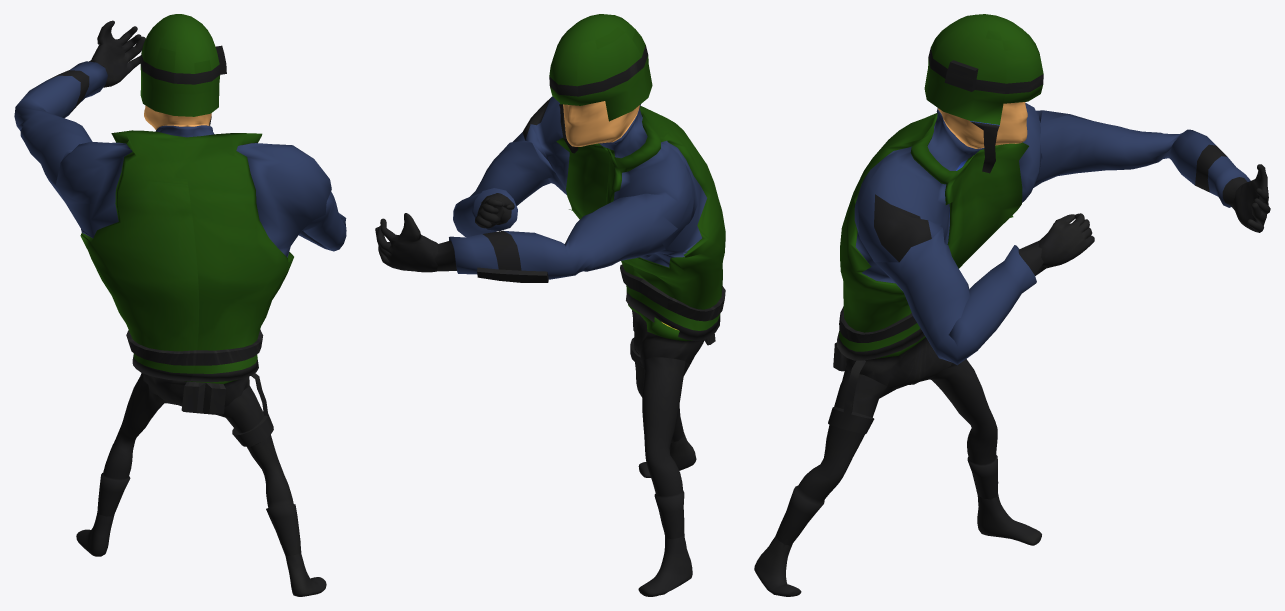
The model's file is armor_vest.obj.
3 renders of one model, left to right at view 1: azimuth 30°, elevation 25°; view 2: azimuth 150°, elevation 25°; view 3: azimuth 270°, elevation 25°, orthographic. The views are drawn at different scales.
Visible parts, largest first — view 1: backup_Cylinder.002; view 2: backup_Cylinder.002; view 3: backup_Cylinder.002.
Part boxes in pixels (box(x1,y1,x2,y2)): backup_Cylinder.002: box(14, 14, 346, 596); backup_Cylinder.002: box(375, 14, 725, 596); backup_Cylinder.002: box(754, 14, 1270, 596).
Size of the model in its own units: 1.12 by 2.2 by 1.83.
